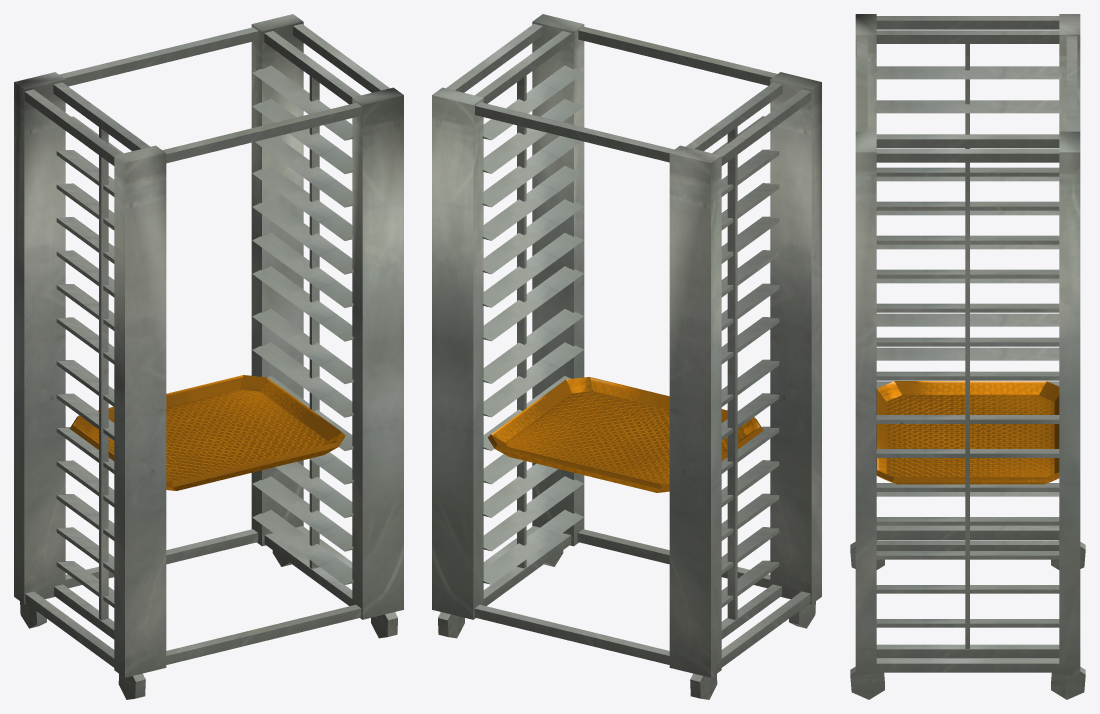
Rendered from TrayShelf.fbx.
3 views of the same model, side by side, from view 1: azimuth 30°, elevation 25°; view 2: azimuth 150°, elevation 25°; view 3: azimuth 270°, elevation 25° (orthographic).
Visible parts, largest first — view 1: Oven.001, Tray_01; view 2: Oven.001, Tray_01; view 3: Oven.001, Tray_01.
Part boxes in pixels (box(x1,y1,x2,y2)): Oven.001: box(14, 14, 403, 699); Tray_01: box(69, 375, 345, 490); Oven.001: box(432, 14, 821, 699); Tray_01: box(487, 377, 763, 492); Oven.001: box(850, 14, 1085, 699); Tray_01: box(876, 381, 1059, 484).
Size of the model in its own units: 123 by 230 by 88.78.
